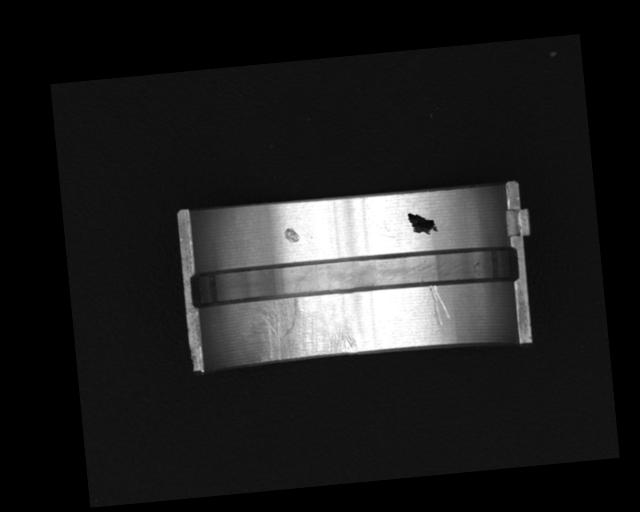blot: (406, 210, 438, 237)
bruise: (282, 225, 300, 244)
gap: (188, 241, 521, 310)
nick: (429, 284, 450, 328)
scratch: (244, 292, 357, 364)
